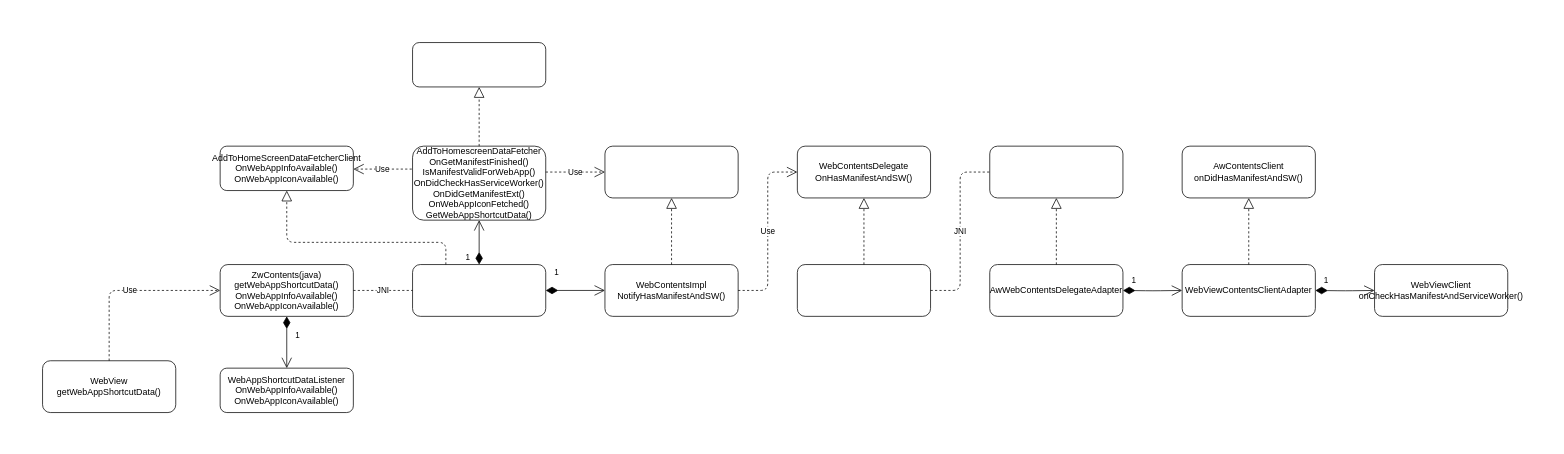
This 1564x454 diagram has some shape labels left out. Each missing label, with the centre of its shape:
"AwWebContentsDelegate(cc) OnHasManifestAndSW()" belongs at [864,290].
"AwWebContentsDelegate(java) didHasManifestAndSW()" belongs at [1056,171].
"WebContents NotifyHasManifestAndSW()" belongs at [671,171].
"WebContentsObserver DidFinishLoad()" belongs at [479,64].
"ZwContents(cc) GetWebAppShortcutData()" belongs at [479,290].
